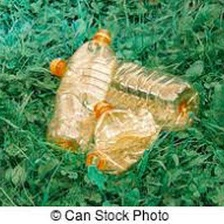bottle: (46, 52, 207, 132), (43, 29, 117, 158), (82, 97, 160, 174)
